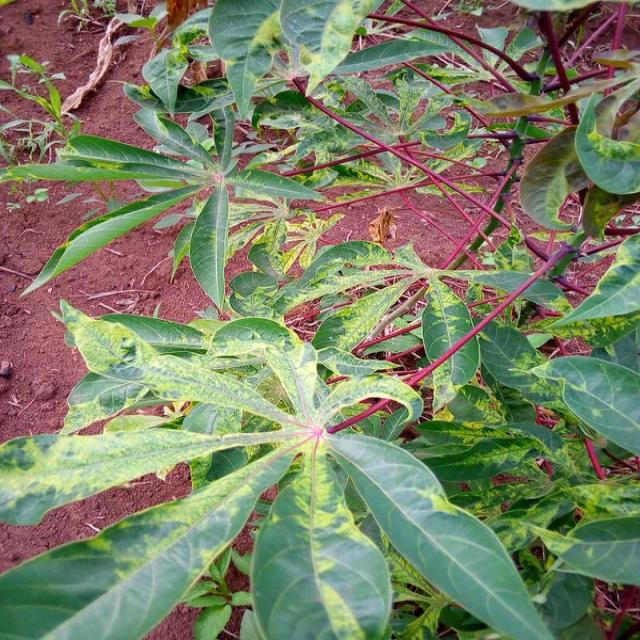cassava leaf: (0, 1, 638, 638), (1, 296, 555, 638)
